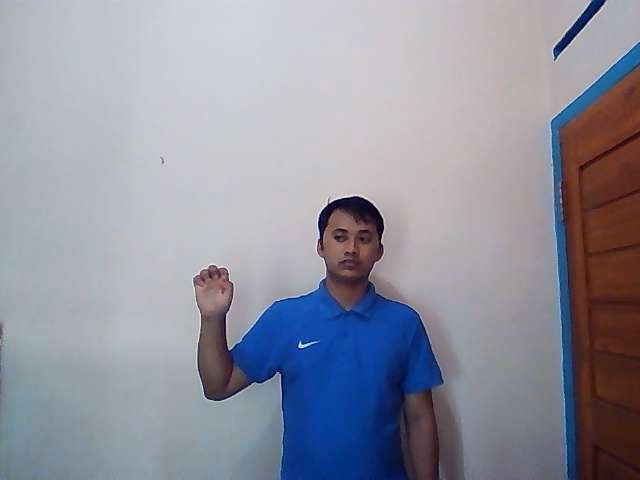E: (192, 263, 236, 313)
